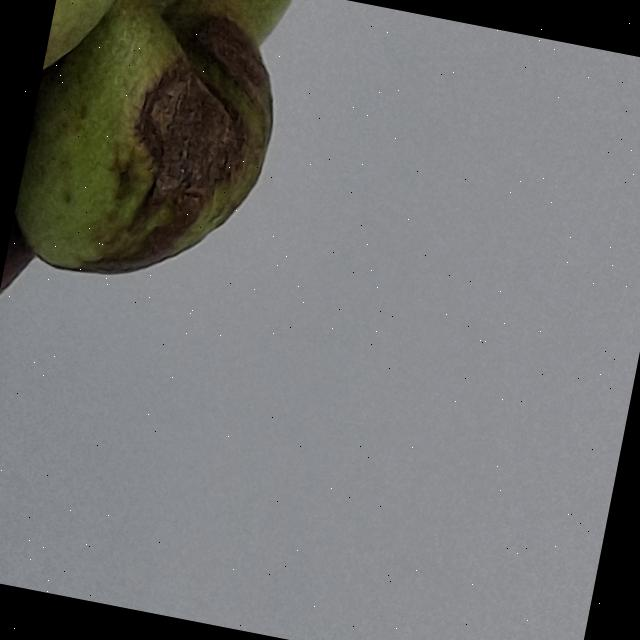mangosteen: (0, 0, 533, 610)
